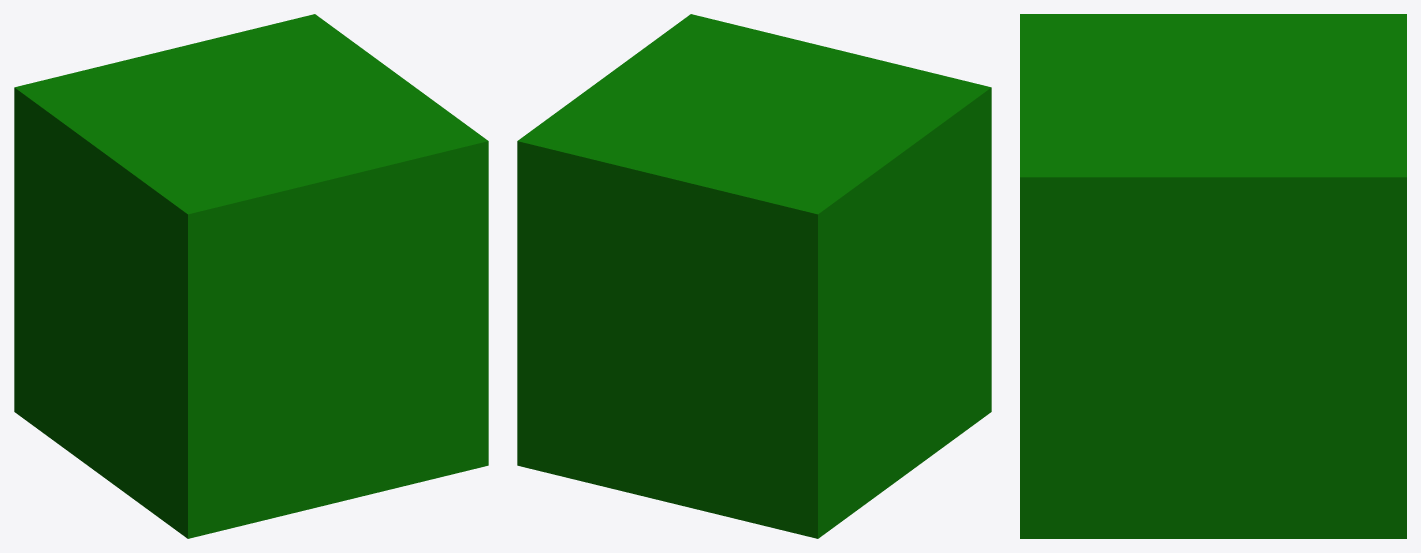
File: Dest_PoisonFactory_Poision_Pipe.FBX
The picture shows the model from 3 angles, left to right: view 1: azimuth 30°, elevation 25°; view 2: azimuth 150°, elevation 25°; view 3: azimuth 270°, elevation 25°; orthographic projection. The views are drawn at different scales.
Visible parts, largest first — view 1: Object003; view 2: Object003; view 3: Object003.
Part boxes in pixels (<box>): Object003: <box>14,14,488,538</box>; Object003: <box>517,14,991,538</box>; Object003: <box>1020,14,1406,538</box>.
Size of the model in its own units: 2.3 by 2.38 by 2.3.
